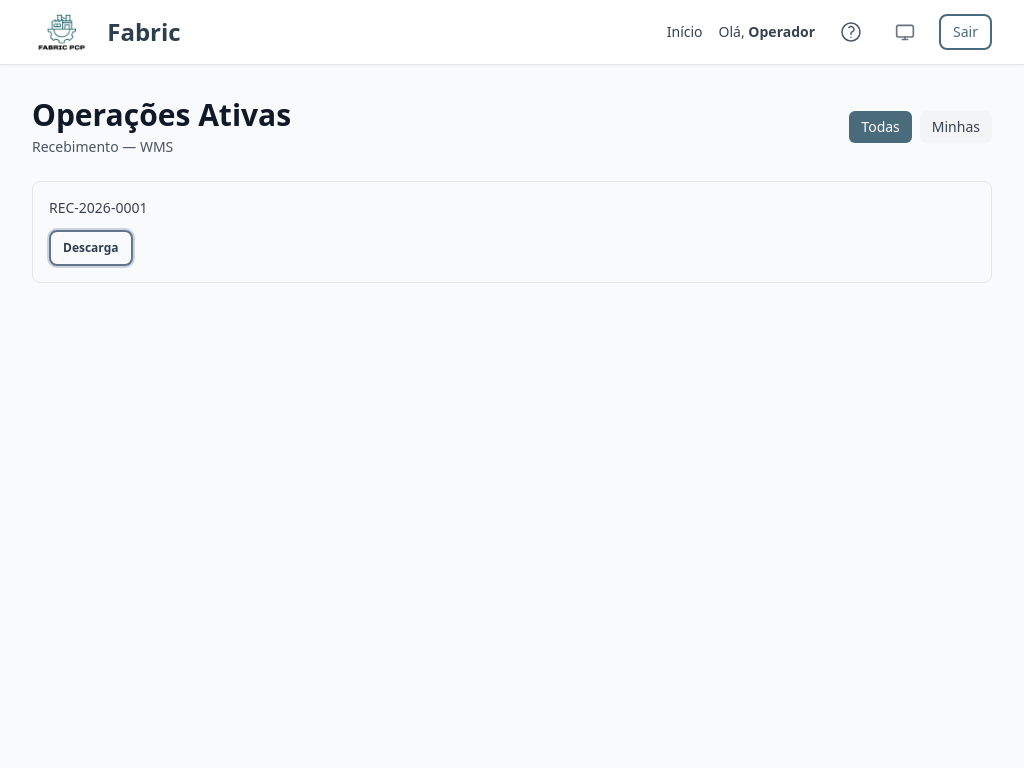
Scenario: OperationsPanelView › erro em warehouseTaskService.start durante confirmPickup mostra mensagem no diálogo e não abre o modal de ação
The image size is (1024, 768).
Click the button "Descarga": x=91, y=248 [49,230,132,266]
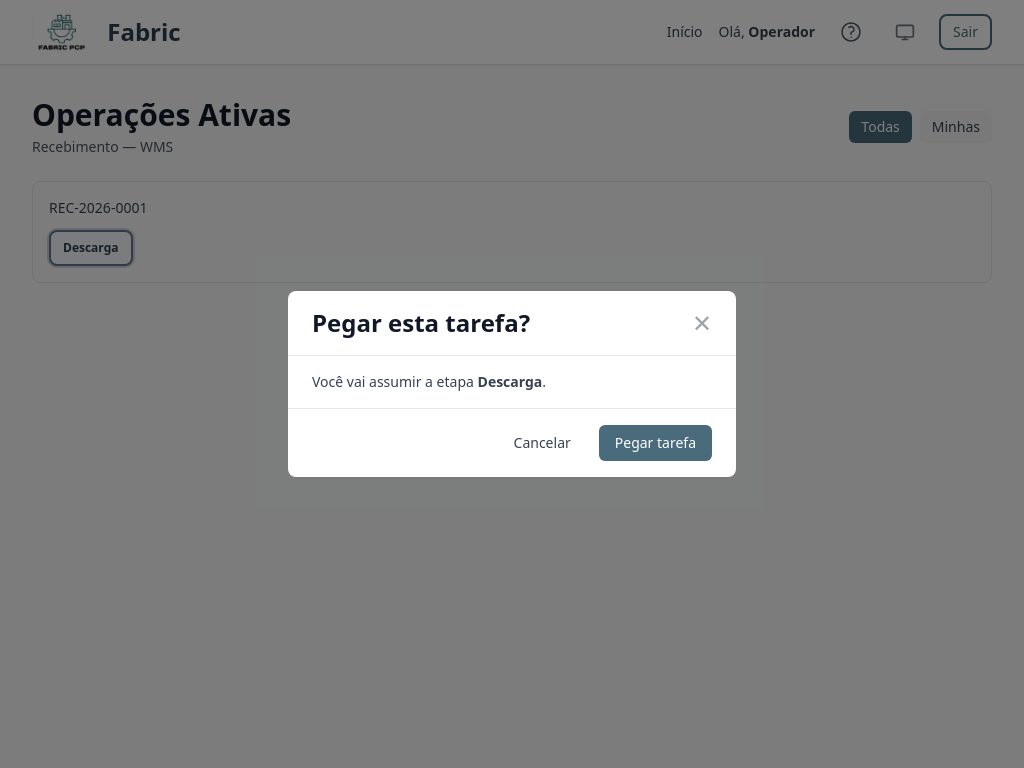
Now the text "Pegar esta tarefa?" is shown, box [312,307,530,339]
Click the button "Pegar tarefa": x=655, y=443 [599,425,712,461]
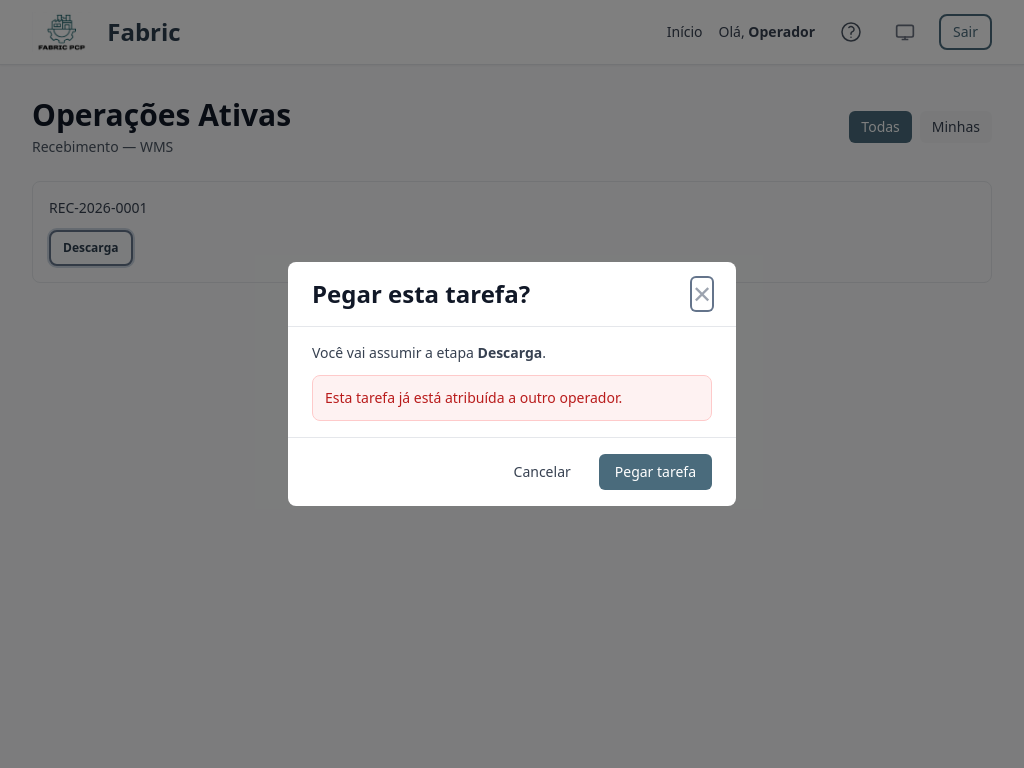
Now the text "Pegar esta tarefa?" is shown, box [312,278,530,310]
Now the text "Esta tarefa já está atribuída a outro operador." is shown, box [312,375,712,421]
